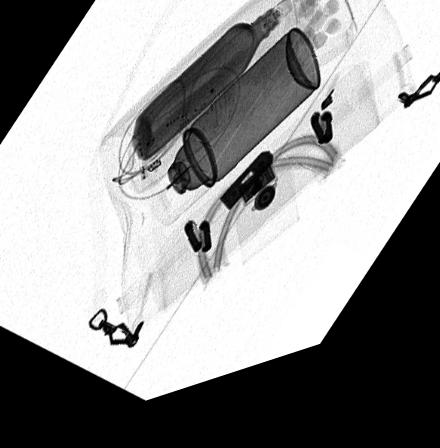Sprayer: (138, 44, 319, 234)
